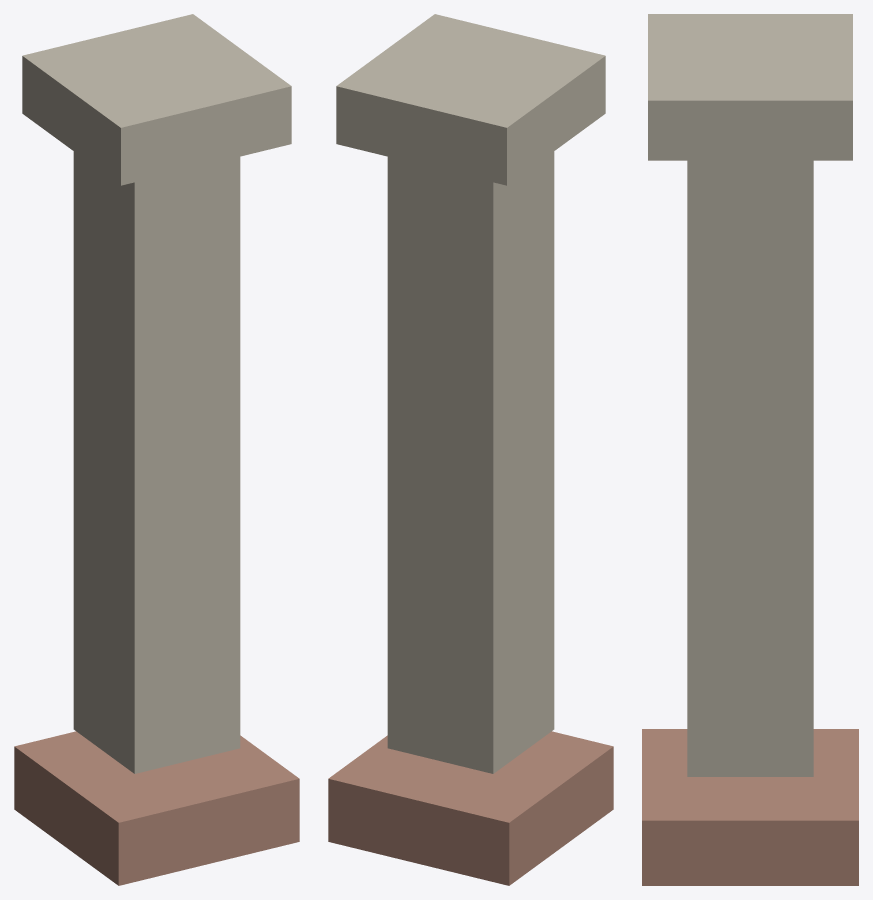
The model's file is iz3_historic_detail_03.glb.
The picture shows the model from 3 angles, left to right: view 1: azimuth 30°, elevation 25°; view 2: azimuth 150°, elevation 25°; view 3: azimuth 270°, elevation 25°; orthographic projection. The views are drawn at different scales.
Parts seen in each view (by area): view 1: shaft, capital, base; view 2: shaft, capital, base; view 3: shaft, capital, base.
Part boxes in pixels (x1=…): shaft: x1=73, y1=151, x2=240, y2=773; capital: x1=22, y1=14, x2=291, y2=185; base: x1=14, y1=731, x2=299, y2=885; shaft: x1=387, y1=151, x2=554, y2=773; capital: x1=336, y1=14, x2=605, y2=185; base: x1=328, y1=731, x2=613, y2=885; shaft: x1=687, y1=160, x2=813, y2=776; capital: x1=648, y1=14, x2=852, y2=160; base: x1=642, y1=729, x2=858, y2=885.
Bounding box in the file's own units: 0.72 × 2.87 × 0.72.
